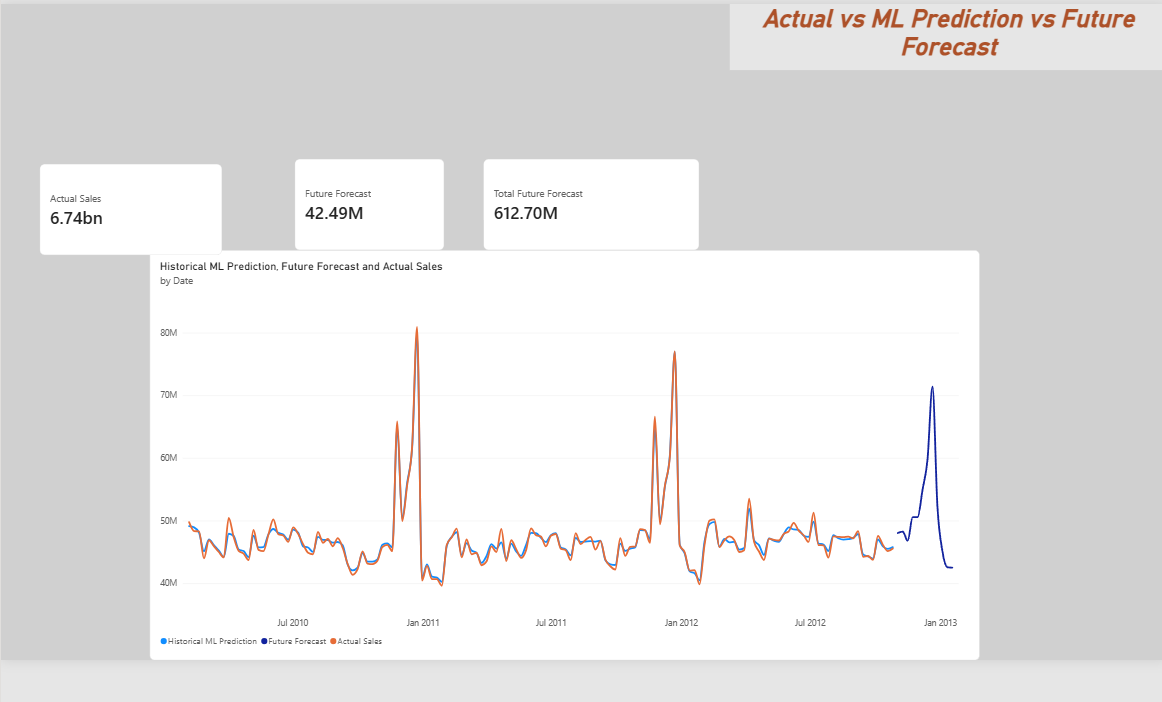

The page's visual inventory and layout, read from the dashboard file:
{"tool":"powerbi","page":{"name":"Combined Forecast","canvas":[1920,1080],"ordinal":4},"visuals":[{"type":"lineChart","fields":{"Category":["DateTable.Date"],"Y":["DateTable.Historical ML Prediction","DateTable.Future Forecast","DateTable.Actual Sales"]},"box":[244.9,405.5,1366.7,675.1],"z":0},{"type":"cardVisual","fields":{"Data":["DateTable.Actual Sales"]},"box":[64.3,264.3,300,150],"z":1000},{"type":"cardVisual","fields":{"Data":["DateTable.Future Forecast"]},"box":[482.9,254.3,246.7,150],"z":2000},{"type":"cardVisual","fields":{"Data":["DateTable.Total Future Forecast"]},"box":[794.3,255.7,355.6,150],"z":3000},{"type":"textbox","title":"Actual vs ML Prediction vs Future Forecast","box":[1200,0,720.4,150.3],"z":4000}]}

Visuals, with their boxes on the page's 1920x1080 design canvas (x1, y1, x2, y2). These are canvas units, not pixel positions in the 1162x702 screenshot, which may show the page scaled, cropped or inside an application window:
lineChart - DateTable.Date x DateTable.Historical ML Prediction: [x1=245, y1=406, x2=1612, y2=1081]
cardVisual - DateTable.Actual Sales: [x1=64, y1=264, x2=364, y2=414]
cardVisual - DateTable.Future Forecast: [x1=483, y1=254, x2=730, y2=404]
cardVisual - DateTable.Total Future Forecast: [x1=794, y1=256, x2=1150, y2=406]
"Actual vs ML Prediction vs Future Forecast" textbox: [x1=1200, y1=0, x2=1920, y2=150]
